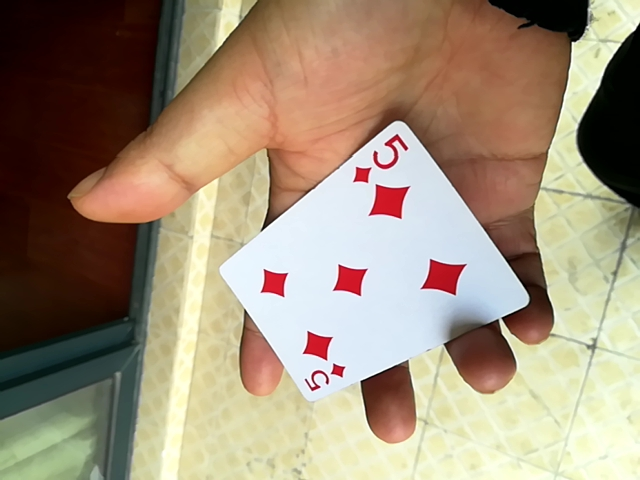fk 5: (209, 126, 529, 398)
